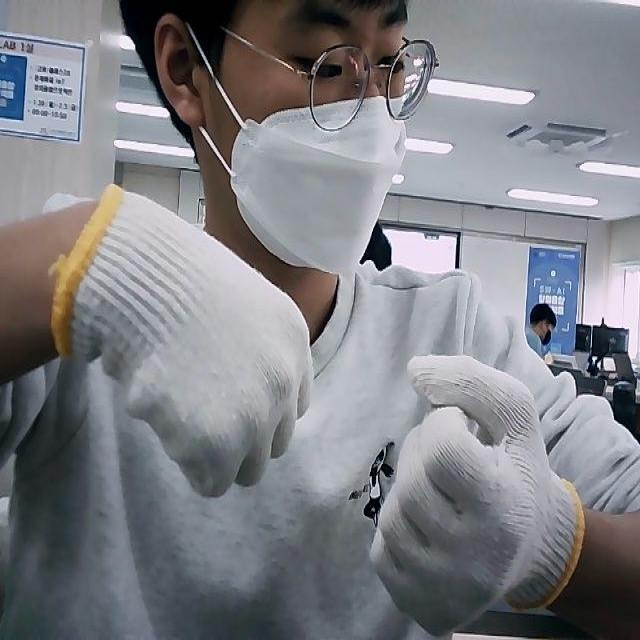Guantes: (54, 187, 314, 499), (367, 351, 588, 635)
